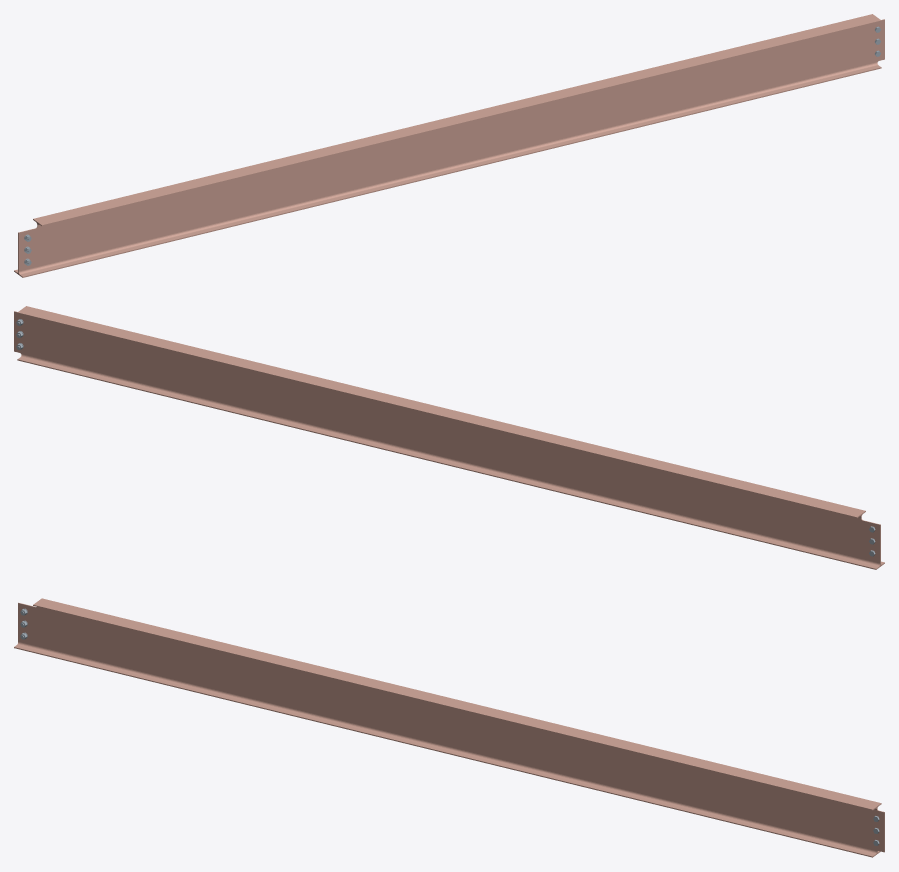
The picture shows the model from 3 angles, top to bottom: view 1: azimuth 30°, elevation 25°; view 2: azimuth 150°, elevation 25°; view 3: azimuth 330°, elevation 25°; orthographic projection.
Visible parts, largest first — view 1: product-c2dd6a37-46e6-4886-80a4-3c882e7bba92-body; view 2: product-c2dd6a37-46e6-4886-80a4-3c882e7bba92-body; view 3: product-c2dd6a37-46e6-4886-80a4-3c882e7bba92-body.
Part boxes in pixels (x1,y1,x2,y2): product-c2dd6a37-46e6-4886-80a4-3c882e7bba92-body: (14, 14, 884, 277); product-c2dd6a37-46e6-4886-80a4-3c882e7bba92-body: (14, 306, 884, 569); product-c2dd6a37-46e6-4886-80a4-3c882e7bba92-body: (14, 598, 884, 857).
Size of the model in its own units: 5.76 by 0.3048 by 0.1013.
